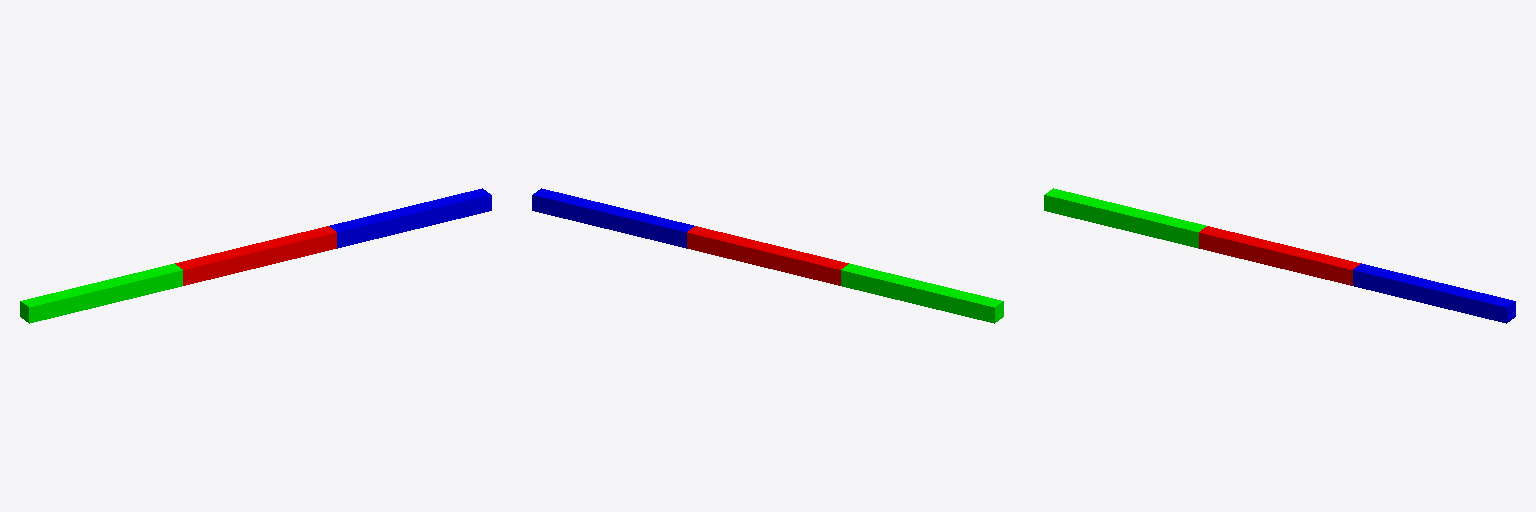
robot.urdf — box2D:
<robot name="box2D">
    
  <link name="baselink">
    <inertial>
      <origin rpy="0 0 0" xyz="0 0 0"/>
       <mass value="0"/>
       <inertia ixx="0" ixy="0" ixz="0" iyy="0" iyz="0" izz="0"/>
    </inertial>
  </link>

  <link name="link1">
    <inertial>
      <origin rpy="0 0 0" xyz="0.5 0 0"/>
       <mass value="0.5"/>
       <inertia ixx="0.0001" ixy="0" ixz="0" iyy="0.0001" iyz="0" izz="0.0001"/>
    </inertial>

    <visual>
      <origin rpy="0 0 0" xyz="0.5 0 0"/>
      <geometry>
        <box size="1 0.1 0.1" />      
      </geometry>     
      <material name="green">
        <color rgba="0 1 0 1"/>
      </material>
    </visual>
    
    <collision>
      <origin rpy="0 0 0" xyz="0.5 0 0"/>
      <geometry>
        <box size="1 0.1 0.1" />   
      </geometry>
    </collision>
  </link>


  <link name="link2">
    <inertial>
      <origin rpy="0 0 0" xyz="0.5 0 0"/>
       <mass value="0.5"/>
       <inertia ixx="0.0001" ixy="0" ixz="0" iyy="0.0001" iyz="0" izz="0.0001"/>
    </inertial>

    <visual>
      <origin rpy="0 0 0" xyz="0.5 0 0"/>
      <geometry>
        <box size="1 0.1 0.1" />         
      </geometry>
      <material name="red">
        <color rgba="1 0 0 1"/>
      </material>
    </visual>
    
    <collision>
      <origin rpy="0 0 0" xyz="0.5 0 0"/>
      <geometry>
        <box size="1 0.1 0.1" />         
      </geometry>
    </collision>
  </link>


  <link name="link3">
    <inertial>
      <origin rpy="0 0 0" xyz="0.5 0 0"/>
       <mass value="0.5"/>
       <inertia ixx="0.0001" ixy="0" ixz="0" iyy="0.0001" iyz="0" izz="0.0001"/>
    </inertial>

    <visual>
      <origin rpy="0 0 0" xyz="0.5 0 0"/>
      <geometry>
        <box size="1 0.1 0.1" />         
      </geometry>
      <material name="blue">
        <color rgba="0 0 1 1"/>
      </material>
    </visual>
    
    <collision>
      <origin rpy="0 0 0" xyz="0.5 0 0"/>
      <geometry>
        <box size="1 0.1 0.1" />         
      </geometry>
    </collision>
  </link>

  <joint name = "joint1" type = "revolute">
    <origin xyz = "0.0 0.0 0.0" rpy = "0 0 0"/> 
    <parent link = "baselink" />
    <child link= "link1"/>
    <axis xyz = "0 0 1" />
    <limit effort="1.0" lower="-10000" upper="10000" velocity="10000" />
    <dynamics damping = "0.0" friction="0.0" />
  </joint>

  <joint name = "joint2" type = "revolute">
    <origin xyz = "1.0 0.0 0.0" rpy = "0 0 0"/> 
    <parent link = "link1" />
    <child link= "link2"/>
    <axis xyz = "0 0 1" />
    <limit effort="1.0" lower="-10000" upper="10000" velocity="10000" />
    <dynamics damping = "0.0" friction="0.0" />
  </joint> 

  <joint name = "joint3" type = "revolute">
    <origin xyz = "1.0 0.0 0.0" rpy = "0 0 0"/> 
    <parent link = "link2" />
    <child link= "link3"/>
    <axis xyz = "0 0 1" />
    <limit effort="1.0" lower="-10000" upper="10000" velocity="10000" />
    <dynamics damping = "0.0" friction="0.0" />
  </joint> 

    
</robot>

--- Render facts (derived) ---
The picture shows the robot from 3 angles, left to right: view 1: azimuth 30°, elevation 25°; view 2: azimuth 150°, elevation 25°; view 3: azimuth 330°, elevation 25°; orthographic projection.
Model box2D with 4 links and 3 joints (3 revolute), rooted at baselink, posed all joints at 0.
Visible links, largest first — view 1: link1, link3, link2; view 2: link1, link3, link2; view 3: link3, link1, link2.
Link boxes in pixels (x1,y1,x2,y2): link1: [20, 263, 182, 323]; link3: [329, 188, 491, 248]; link2: [175, 226, 336, 285]; link1: [841, 263, 1003, 323]; link3: [532, 188, 694, 248]; link2: [687, 226, 848, 285]; link3: [1353, 263, 1515, 323]; link1: [1044, 188, 1206, 248]; link2: [1199, 226, 1360, 285].
Size in the robot's own frame: 3 by 0.1 by 0.1 metres.
Geometry: primitives only (box / cylinder / sphere), no mesh files.